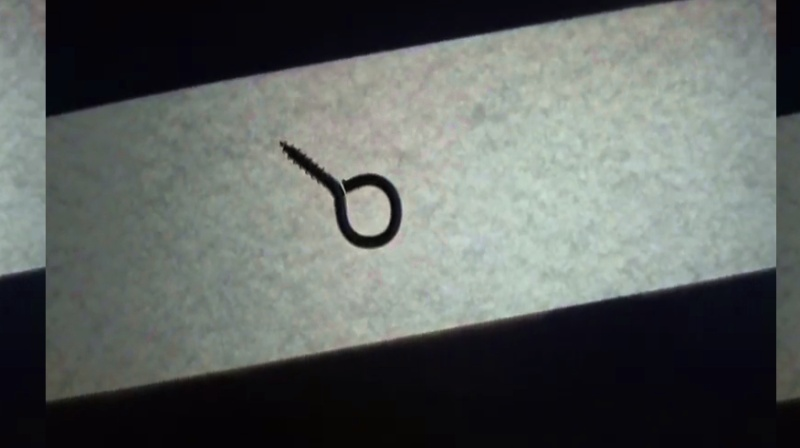O001: (278, 133, 404, 252)
